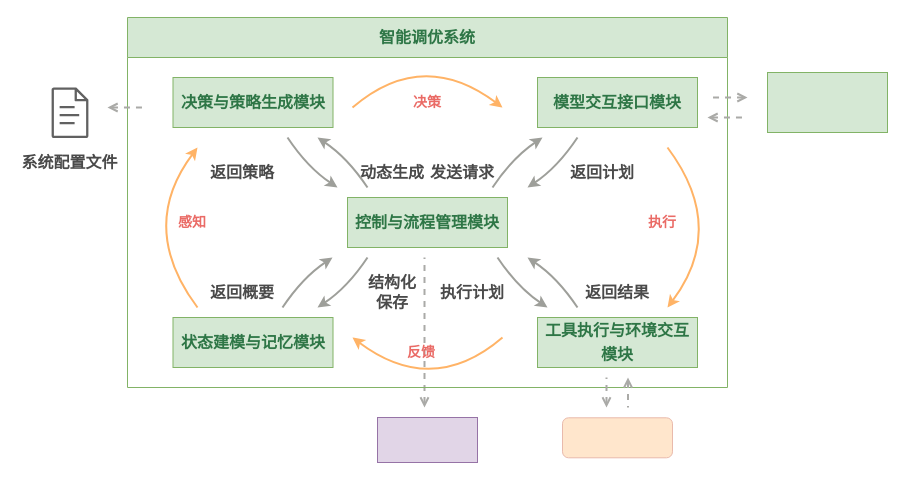
The diagram is 905 pixels wide and 480 high, and some of its shapes have lost their labels. Each missing label, with the centre of its shape:
"LLM" goes at (827,102).
"环境" goes at (617,437).
"结束" goes at (427,439).
